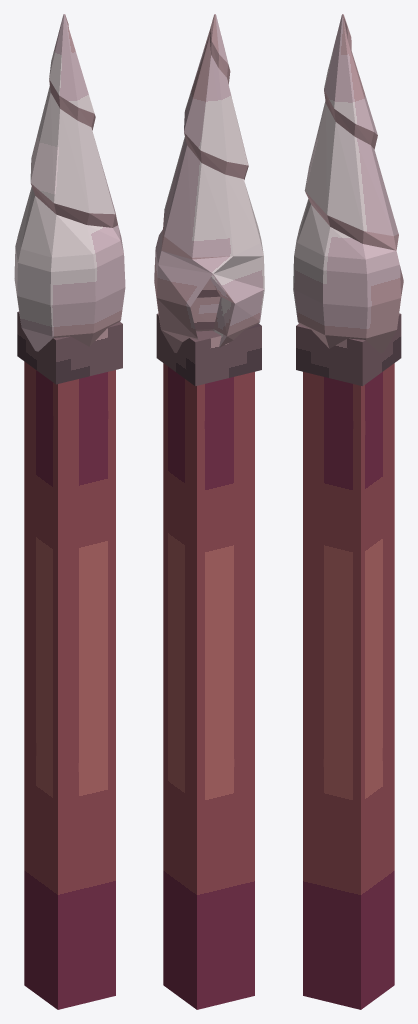
Rendered from seashell_spear.obj.
3 renders of one model, left to right at view 1: azimuth 30°, elevation 25°; view 2: azimuth 210°, elevation 25°; view 3: azimuth 330°, elevation 25°, orthographic.
Visible parts, largest first — view 1: shaft, two_broad_helical_whorl_shoulders, large_body_whorl_with_tapered_side_mouth, shell_base_sleeve; view 2: shaft, two_broad_helical_whorl_shoulders, large_body_whorl_with_tapered_side_mouth, shell_base_sleeve, short_lateral_aperture_with_shell_wall; view 3: shaft, two_broad_helical_whorl_shoulders, large_body_whorl_with_tapered_side_mouth, shell_base_sleeve.
Part boxes in pixels (box(x1,y1,x2,y2)): shaft: box(24, 361, 115, 1009); two_broad_helical_whorl_shoulders: box(18, 14, 120, 257); large_body_whorl_with_tapered_side_mouth: box(14, 226, 125, 351); shell_base_sleeve: box(17, 311, 122, 384); shaft: box(163, 363, 254, 1009); two_broad_helical_whorl_shoulders: box(159, 14, 260, 259); large_body_whorl_with_tapered_side_mouth: box(154, 229, 264, 352); shell_base_sleeve: box(156, 313, 261, 386); short_lateral_aperture_with_shell_wall: box(190, 274, 234, 347); shaft: box(303, 363, 394, 1009); two_broad_helical_whorl_shoulders: box(297, 14, 398, 259); large_body_whorl_with_tapered_side_mouth: box(293, 229, 403, 353); shell_base_sleeve: box(296, 313, 401, 386).
Bounding box in the file's own units: 0.2267 × 2 × 0.1904.
